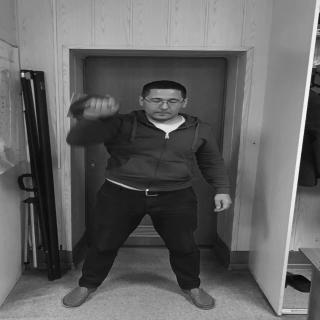kettlebell: (68, 95, 121, 122)
